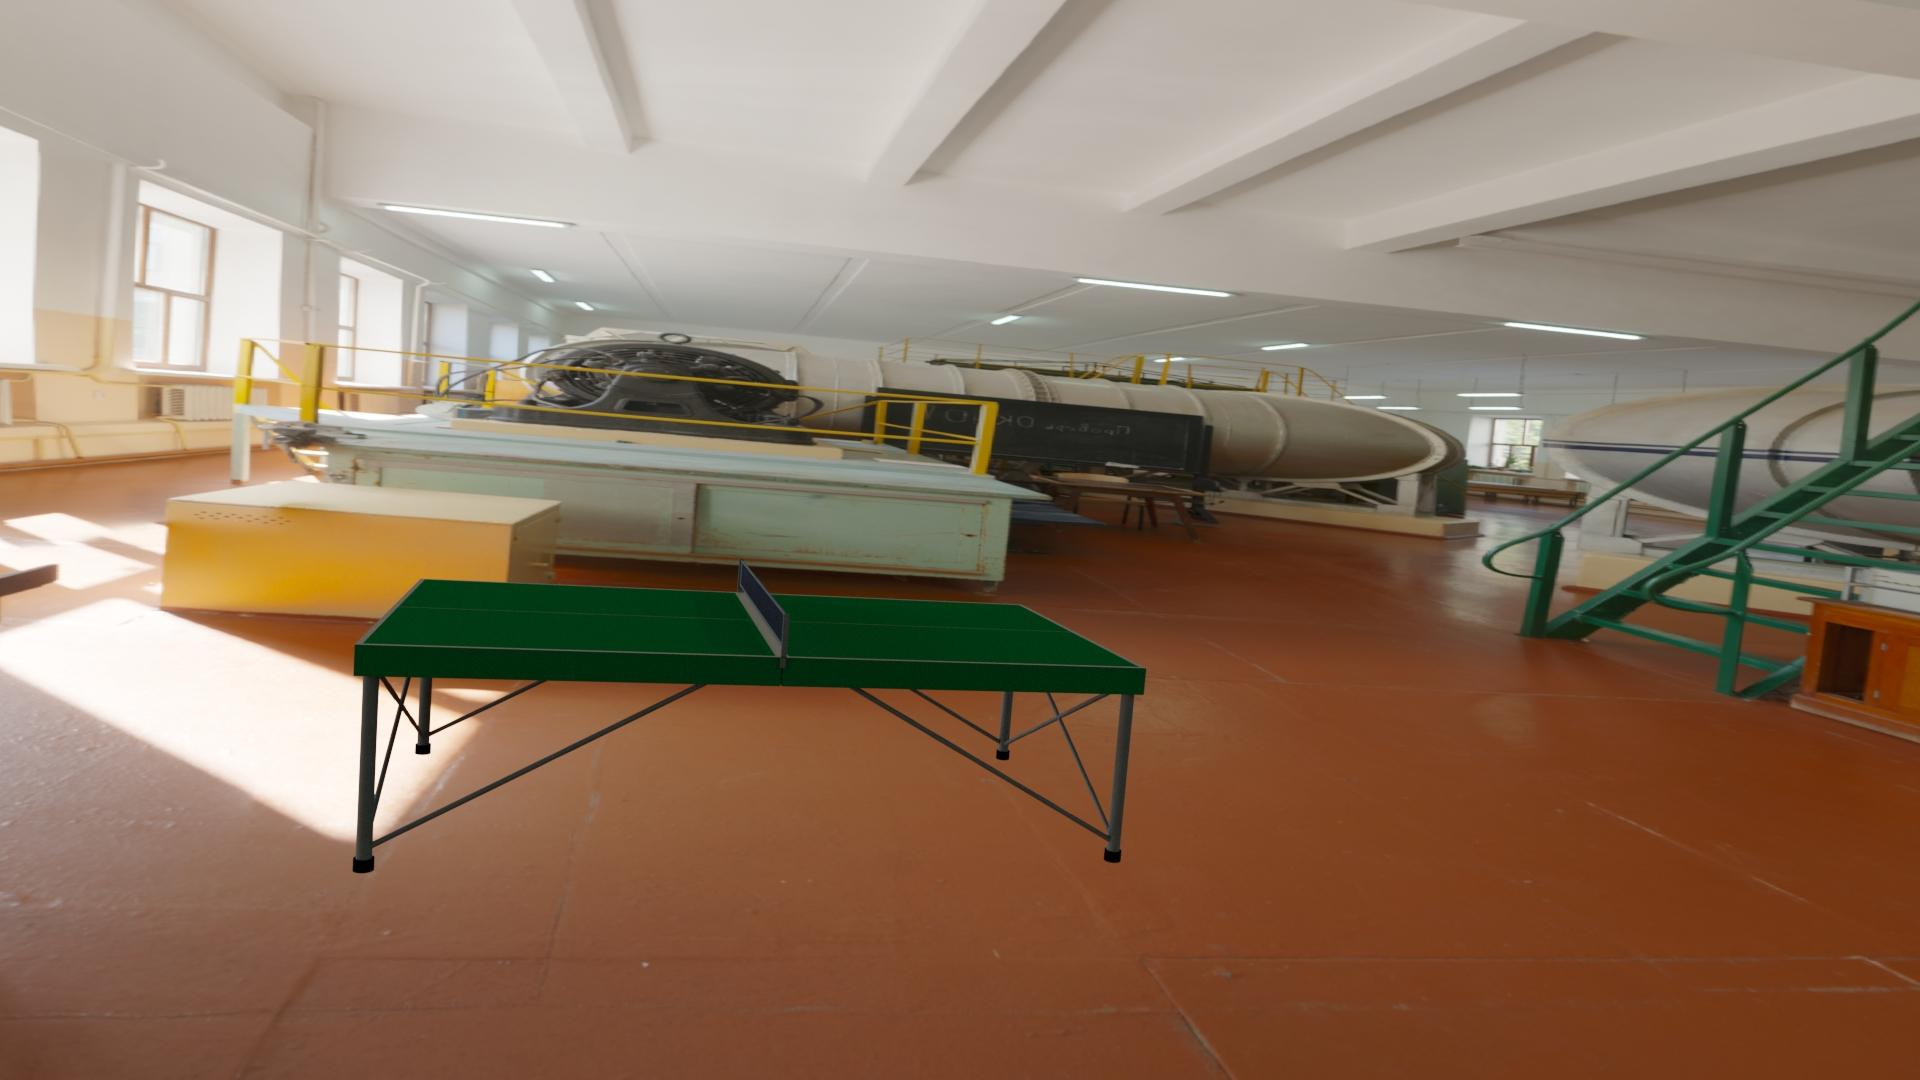table: (363, 579, 1139, 667)
